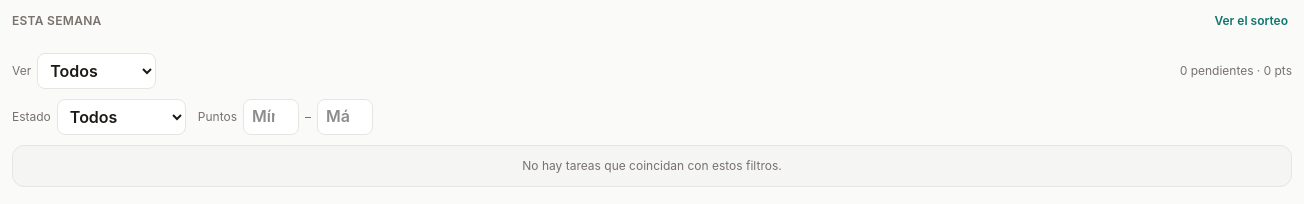
Scenario: TareasClient — filtro de estado › shows an empty-state message when the status filter matches neither pending nor done
This screenshot has width=1304, height=204.
Select "Omitida" in the dropdown labelled "Estado" at (121, 117), box [57,99,186,135]
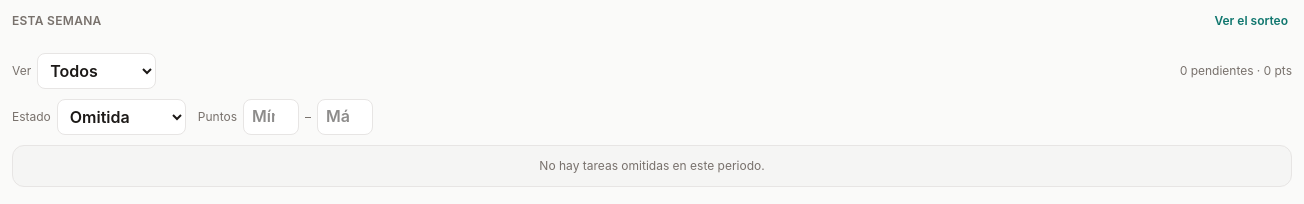
Expected: the text "No hay tareas omitidas en este periodo." is shown, [12,145,1292,187]
